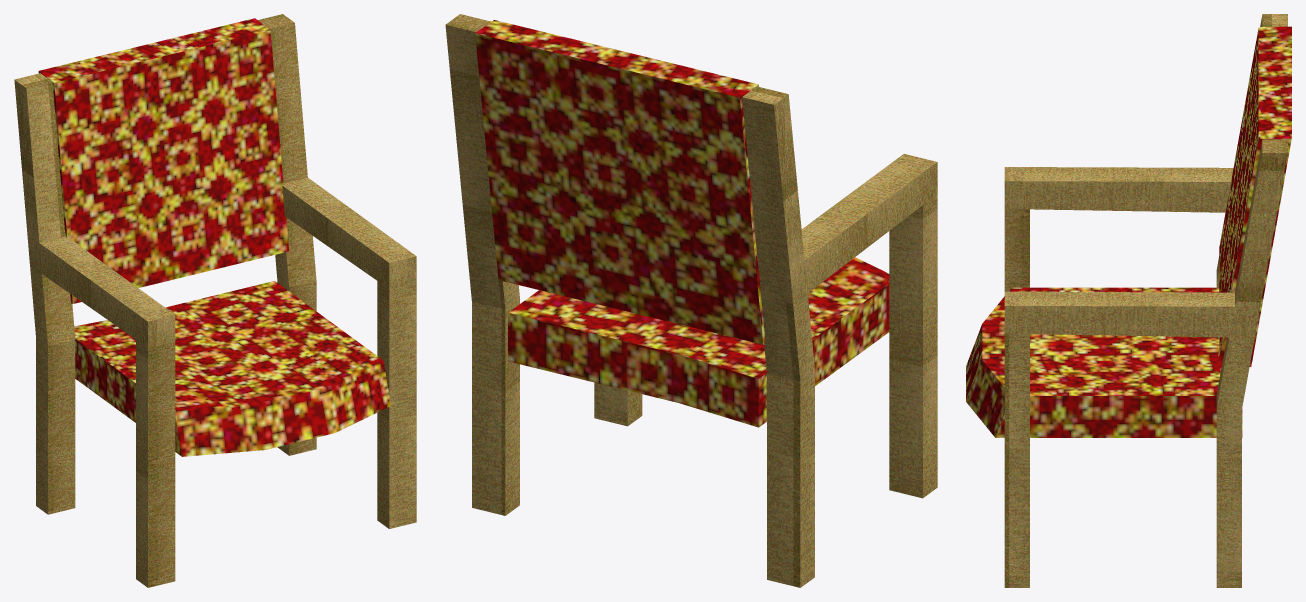
File: Chair01.obj
3 renders of one model, left to right at view 1: azimuth 30°, elevation 25°; view 2: azimuth 150°, elevation 25°; view 3: azimuth 270°, elevation 25°, orthographic. The views are drawn at different scales.
Parts seen in each view (by area): view 1: Chair01_Cube.008; view 2: Chair01_Cube.008; view 3: Chair01_Cube.008.
Boxes of the visible parts, left/top/right/bottom form: Chair01_Cube.008: left=14, top=14, right=416, bottom=587; Chair01_Cube.008: left=445, top=14, right=937, bottom=587; Chair01_Cube.008: left=966, top=14, right=1291, bottom=587.
Bounding box in the file's own units: 2.05 × 3.01 × 2.03.
